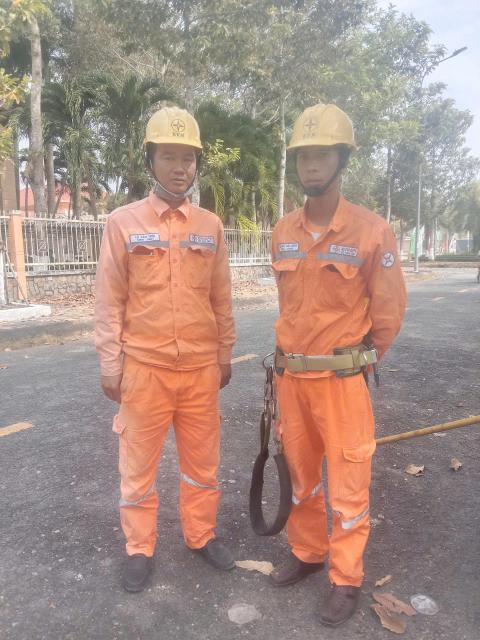harness: (255, 326, 384, 387)
helmet: (258, 98, 376, 159), (123, 93, 219, 157)
shoes: (181, 515, 249, 590), (314, 568, 374, 639), (270, 538, 325, 597), (117, 537, 160, 601)
